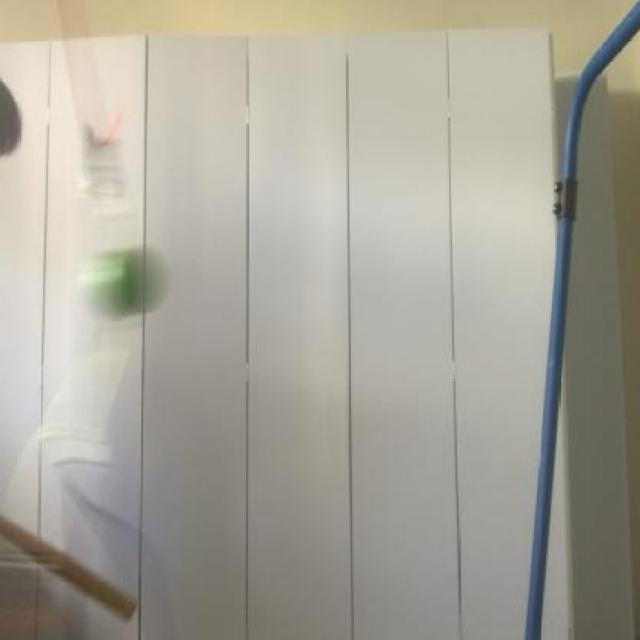baseball: (77, 238, 168, 322)
